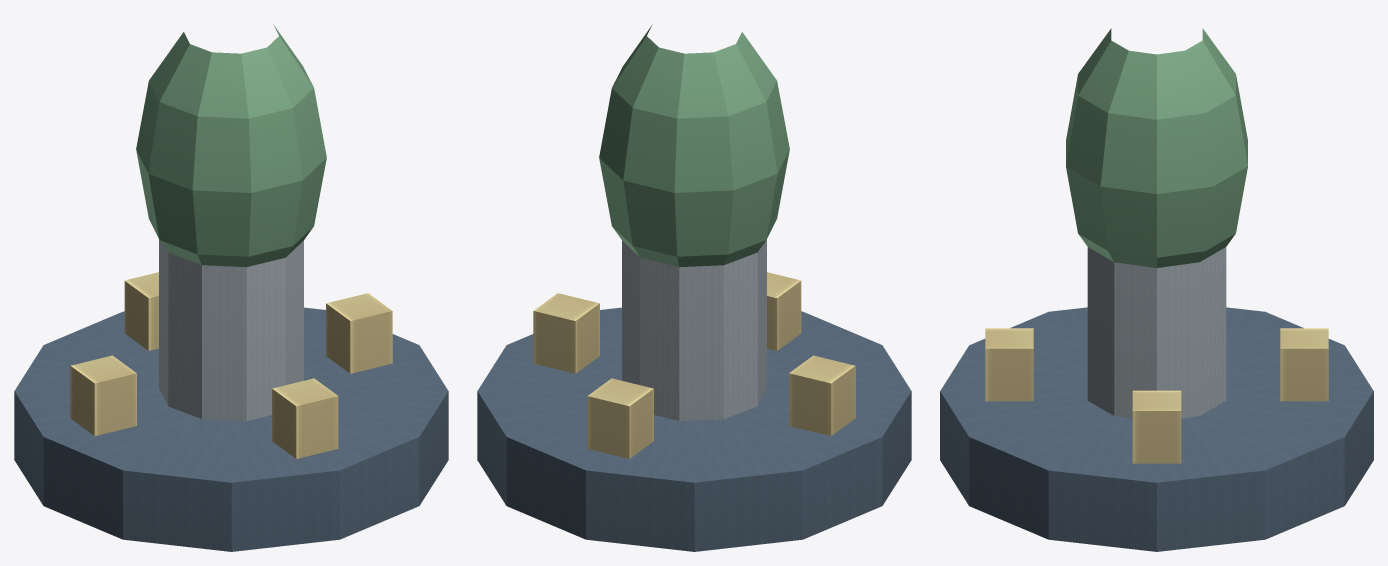
The model's file is zipline_anchor.glb.
The picture shows the model from 3 angles, left to right: view 1: azimuth 30°, elevation 25°; view 2: azimuth 150°, elevation 25°; view 3: azimuth 270°, elevation 25°; orthographic projection.
Parts seen in each view (by area): view 1: zipline_anchor; view 2: zipline_anchor; view 3: zipline_anchor.
Part boxes in pixels (bbox=[...]): zipline_anchor: bbox=[14, 24, 448, 551]; zipline_anchor: bbox=[477, 24, 911, 551]; zipline_anchor: bbox=[940, 28, 1373, 551].
Bounding box in the file's own units: 2.5 × 2.83 × 2.5.
1 material, 1 textured.
